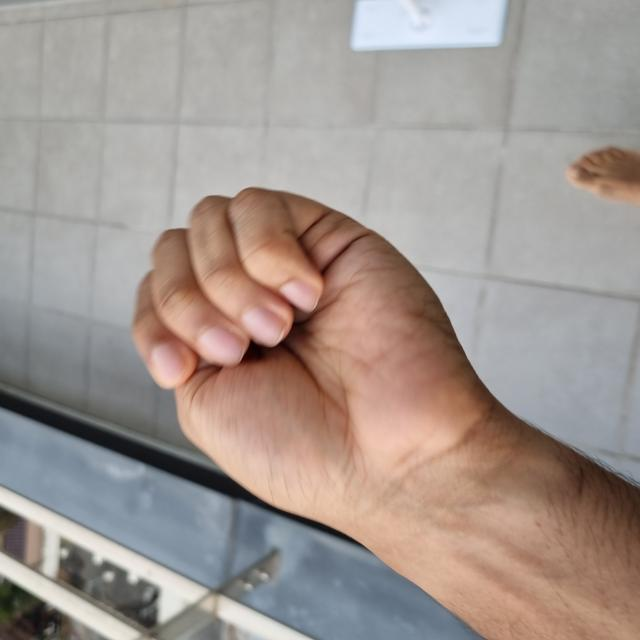Rock: (101, 131, 453, 477)
